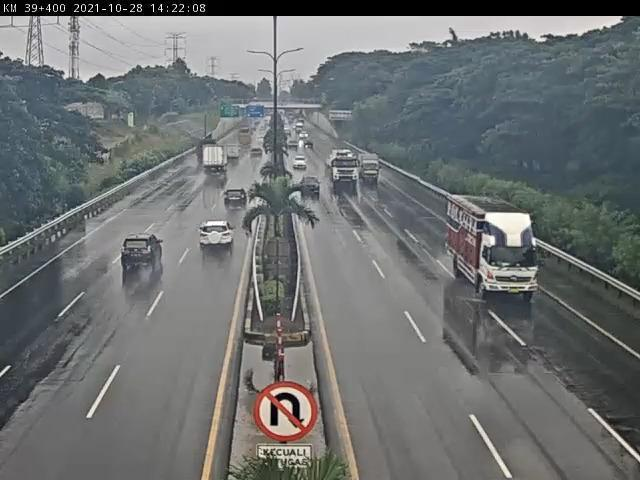car: (118, 232, 168, 275), (197, 221, 237, 253), (223, 187, 249, 208), (301, 176, 323, 196)
truck: (445, 193, 546, 298), (326, 150, 360, 186), (199, 145, 229, 177), (361, 155, 383, 184)
